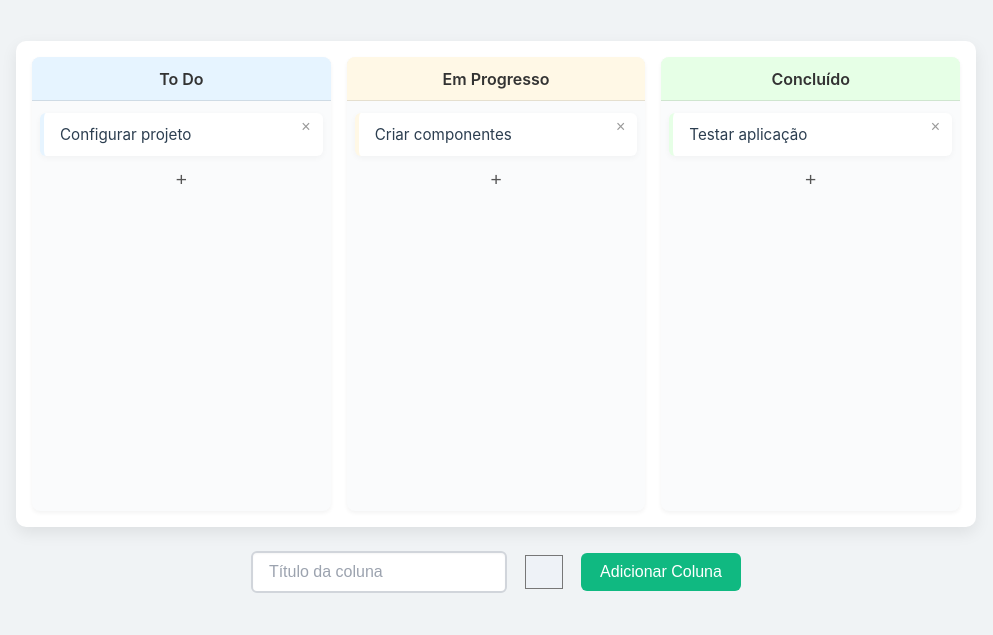
Test: KanbanBoard › não permite adicionar coluna com título duplicado
The width and height of the screenshot is (993, 635).
Expected: the heading "To Do" is shown, [32, 57, 331, 101]
Type "To Do" into the field with placeholder "Título da coluna" at (379, 572), box [251, 551, 507, 593]
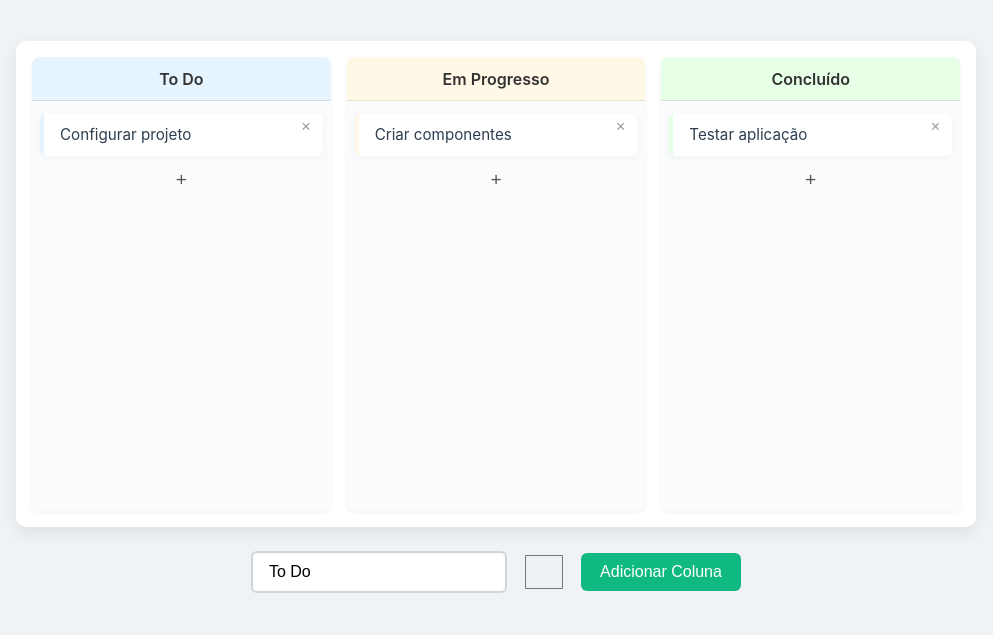
Click the button "Adicionar Coluna" at (661, 572), box [581, 553, 741, 591]
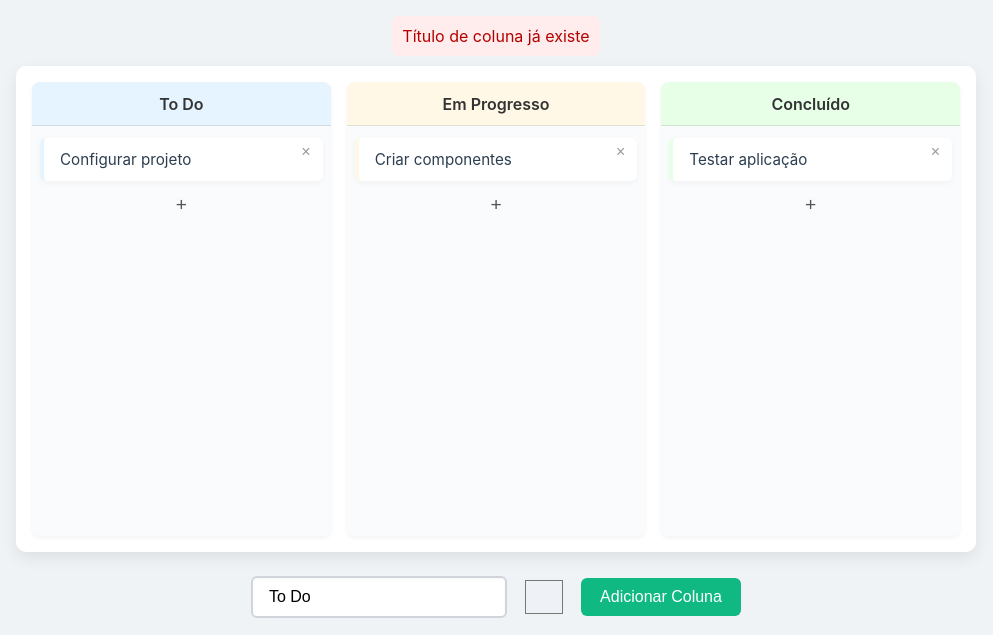
Expected: the text "Título de coluna já existe" is shown, [392, 16, 600, 56]
